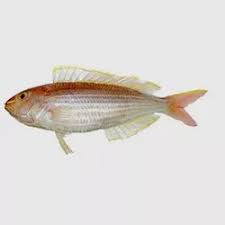Ikan Kerisi: (3, 69, 202, 137)
